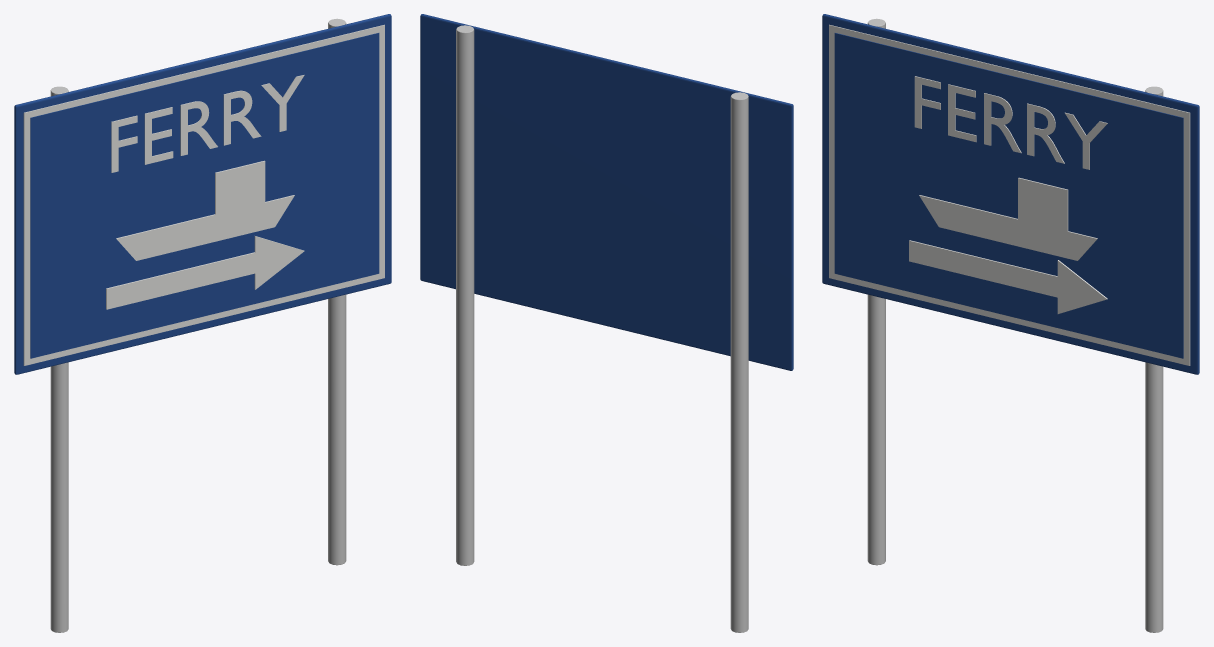
Rendered from water.ferry.sign.glb.
The picture shows the model from 3 angles, left to right: view 1: azimuth 30°, elevation 25°; view 2: azimuth 150°, elevation 25°; view 3: azimuth 330°, elevation 25°; orthographic projection.
Visible parts, largest first — view 1: main__paint_259, main__paint_eed, main__galv_ccc; view 2: main__paint_259, main__galv_ccc; view 3: main__paint_259, main__paint_eed, main__galv_ccc.
Part boxes in pixels (bbox=[...]): main__paint_259: bbox=[14, 14, 391, 374]; main__paint_eed: bbox=[23, 24, 384, 365]; main__galv_ccc: bbox=[50, 18, 346, 632]; main__paint_259: bbox=[420, 14, 793, 370]; main__galv_ccc: bbox=[456, 25, 748, 632]; main__paint_259: bbox=[822, 14, 1199, 374]; main__paint_eed: bbox=[829, 24, 1190, 365]; main__galv_ccc: bbox=[867, 18, 1163, 632].
Bounding box in the file's own units: 1.9 × 2.6 × 0.104.
